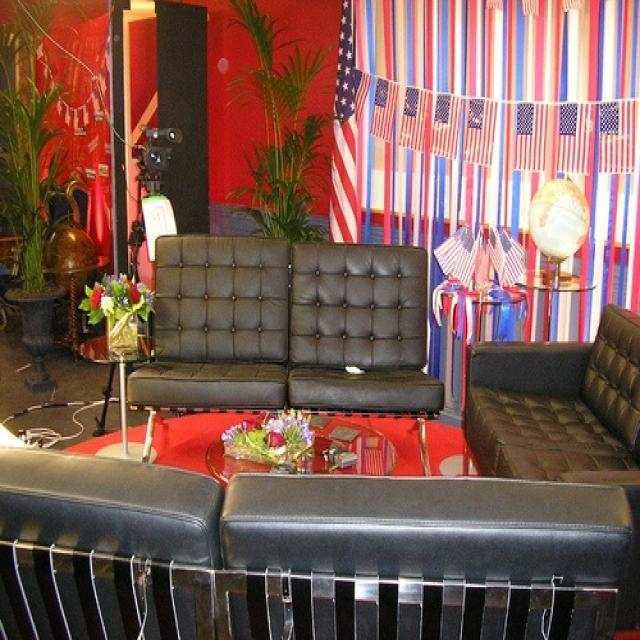pottedplant: (3, 2, 80, 391), (220, 0, 339, 241)
sofa: (0, 446, 634, 636), (128, 234, 444, 474), (461, 300, 639, 487)
